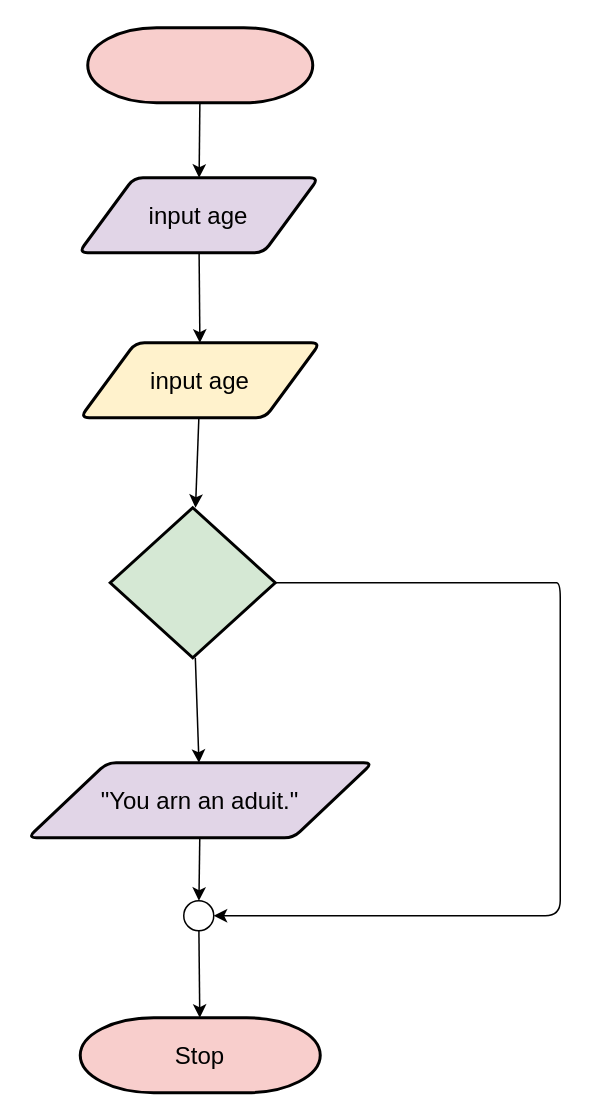
The diagram is 599 pixels wide and 1119 high, and some of its shapes have lost their labels. Each missing label, with the centre of its shape:
age >= 18?: [192,582]
Start: [200,65]
